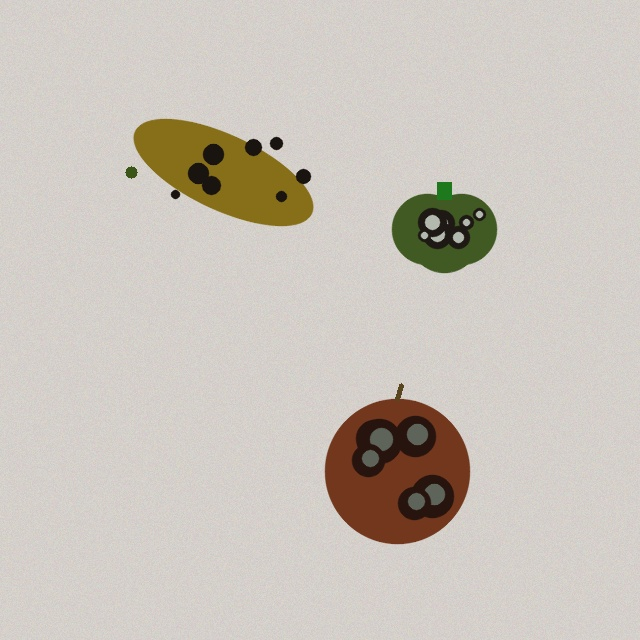Rotten apple: (325, 385, 469, 543)
Rotten banana: (122, 126, 324, 218)
Rotten bell pepper: (392, 182, 496, 272)
